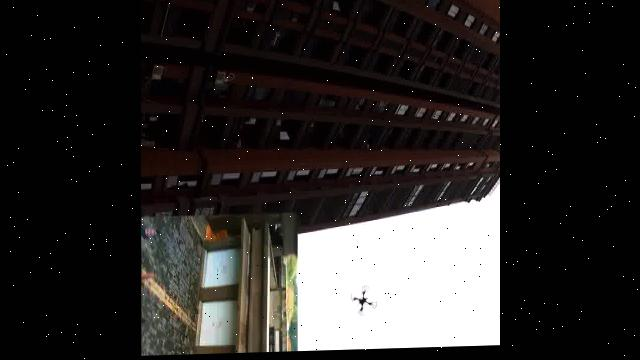drone: (352, 288, 376, 319)
